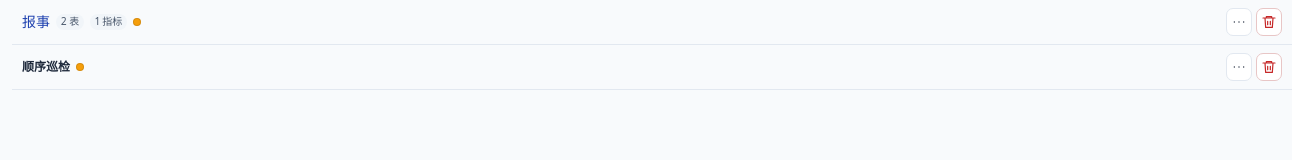
Test: 场景术语可点，点了把 term 写进 URL 并切回表目录
What coordinates should you click on to do the following:
click the button "报事"
I would click on:
 (36, 22)
Its box is [22, 11, 50, 33].
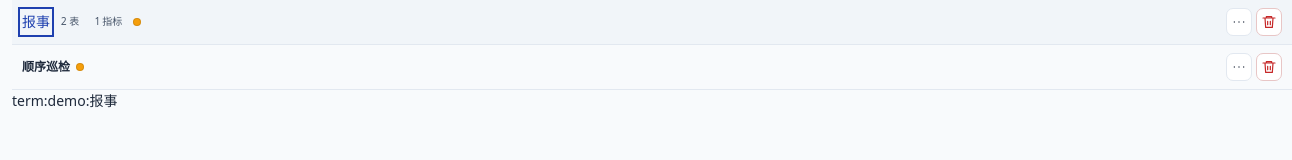
Expected: the text with test id "term-param" reads "term:demo:报事", [12, 91, 117, 110]
